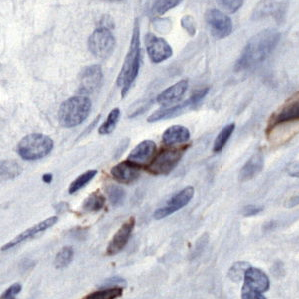Lymphocyte: (81, 287, 126, 299)
